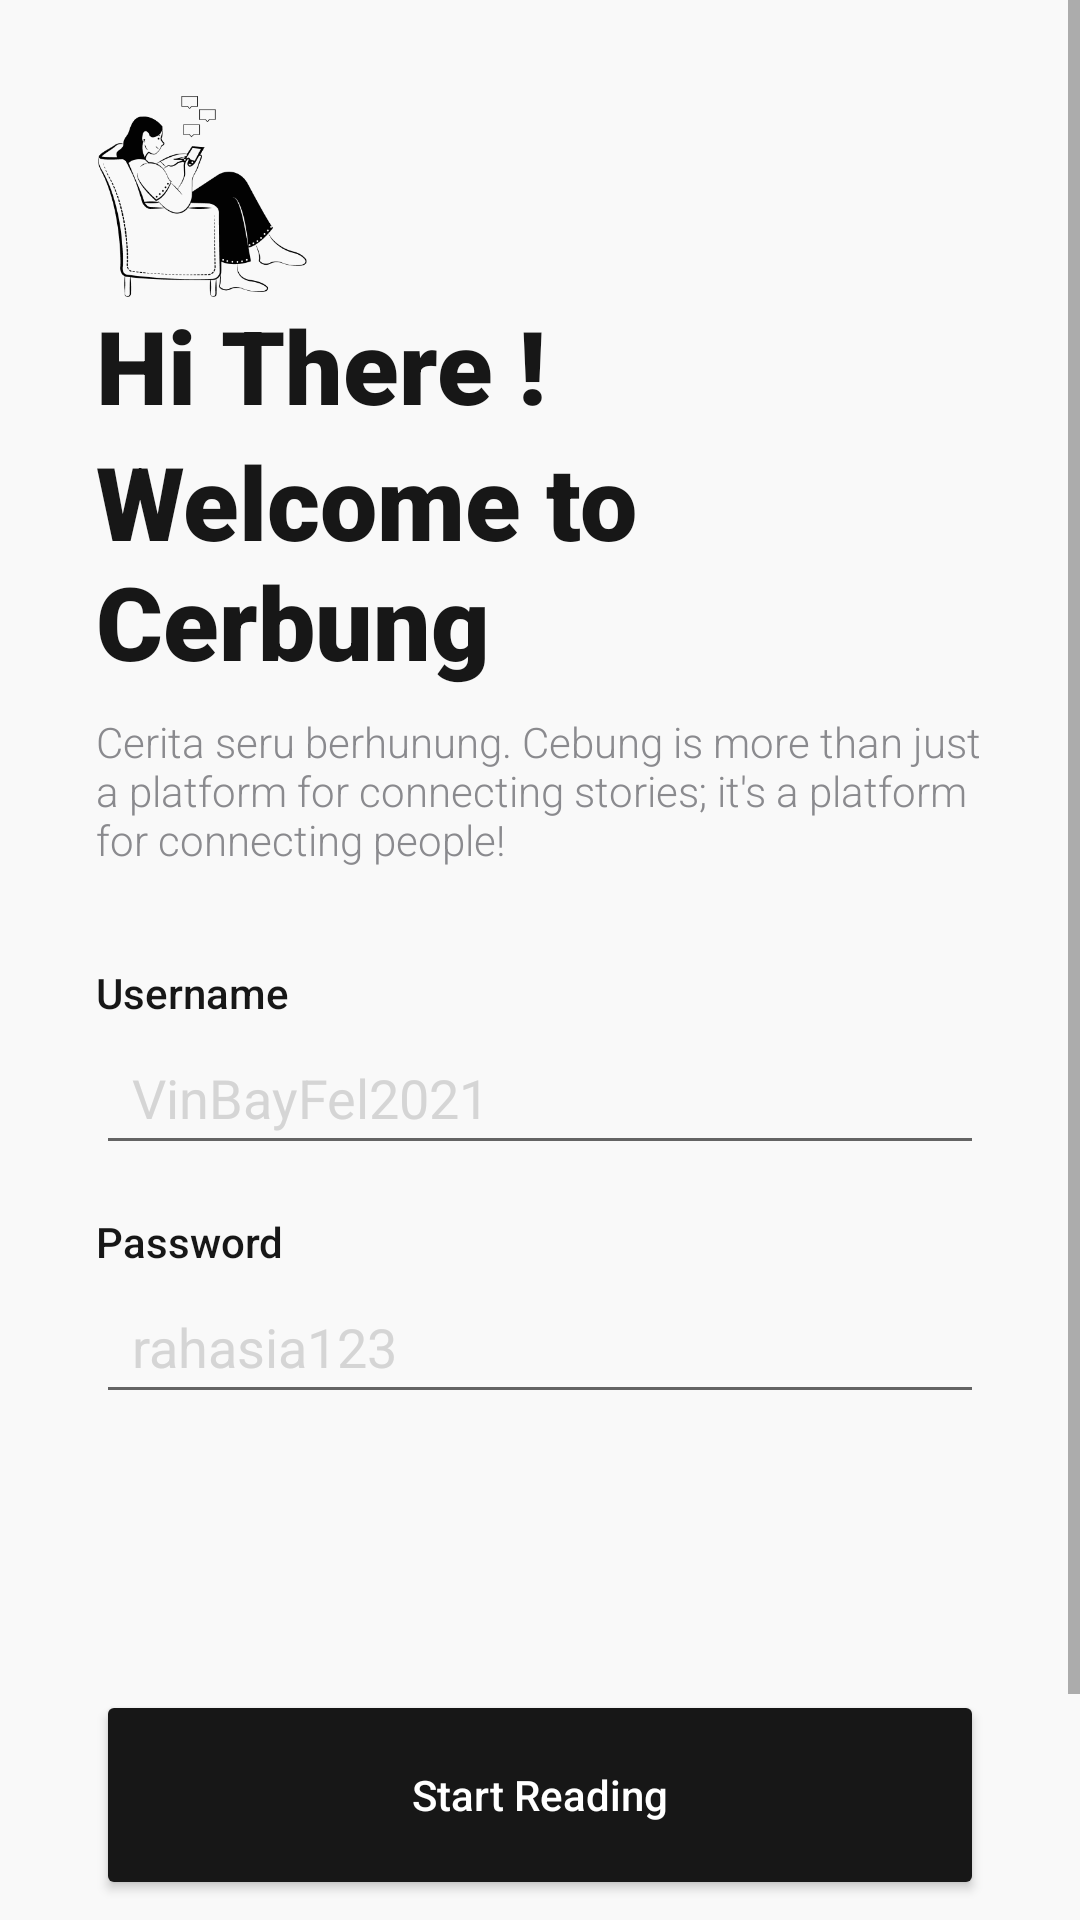

Locate icon controls on the screen. Image size 1080×1920, boxes as (x1, y1, x2, y2).
chatting: (98, 96, 307, 297)
